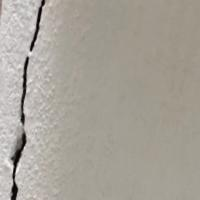crack: (13, 0, 54, 199)
